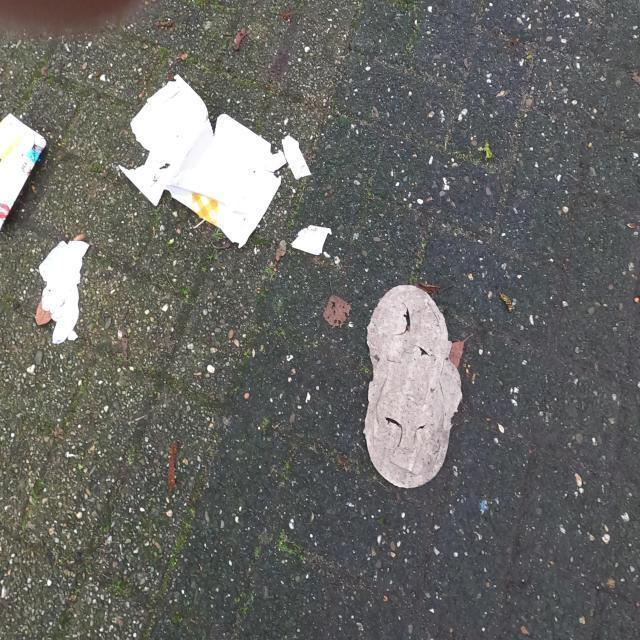Cup: (0, 112, 48, 236)
Paper: (118, 72, 288, 250), (362, 284, 464, 488), (38, 238, 91, 346), (281, 134, 312, 181), (290, 224, 332, 256)
